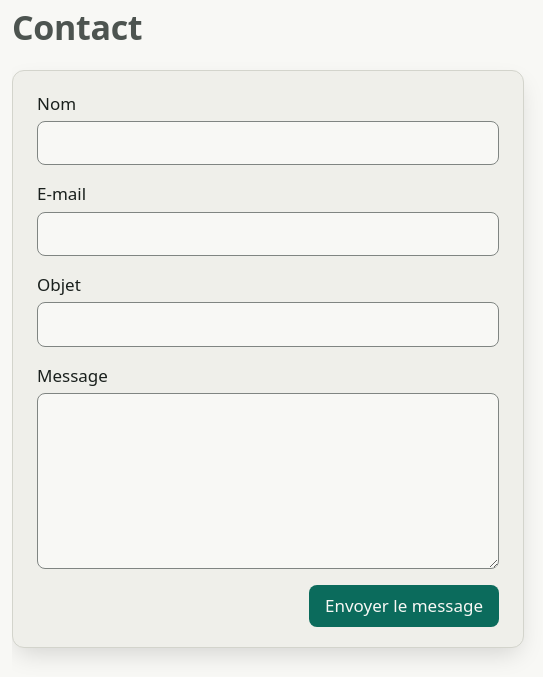
Test: ContactPage › sending a message › says it is sending in French
Type "Grace" into the field labelled "Nom" at (268, 143), box x1=37 y1=121 x2=499 y2=165
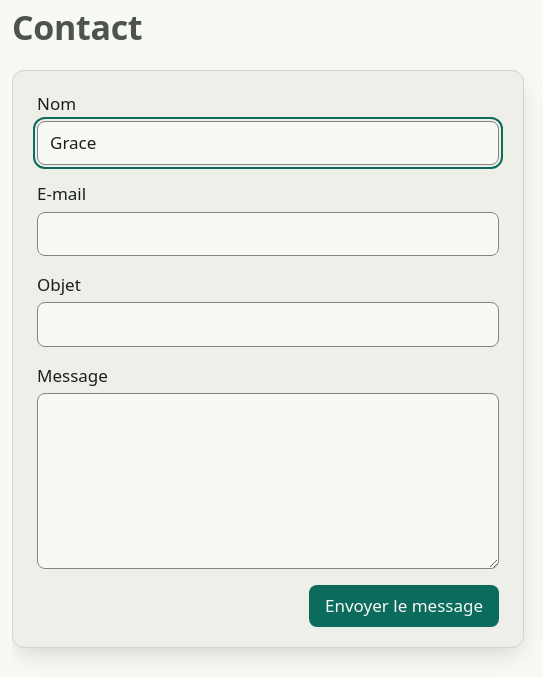
Type "grace@example.com" into the field labelled "E-mail" at (268, 234), box x1=37 y1=212 x2=499 y2=256
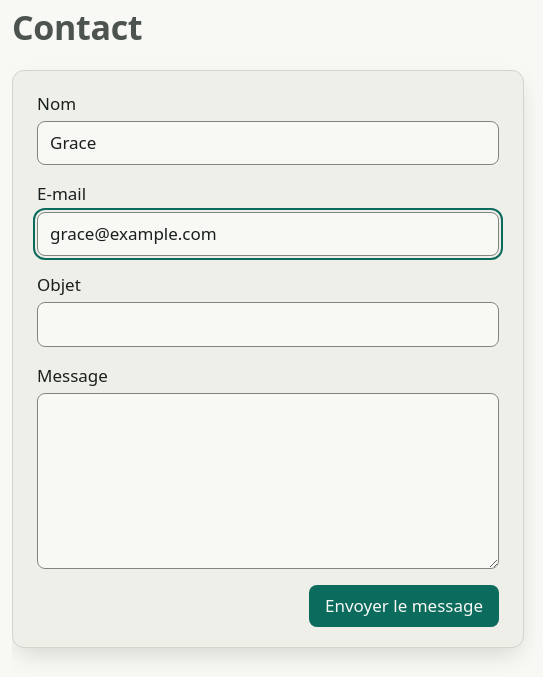
Type "Say hello" into the field labelled "Objet" at (268, 324), box x1=37 y1=302 x2=499 y2=347
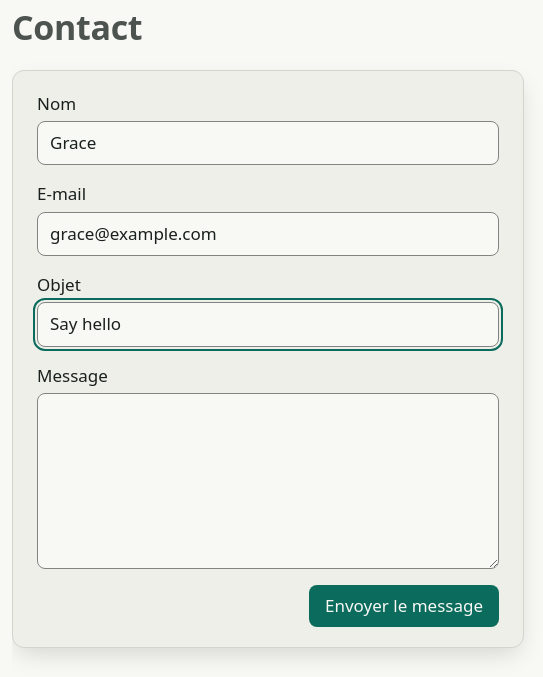
Type "Hello, I would like to talk." into the text box labelled "Message" at (268, 481), box x1=37 y1=393 x2=499 y2=569
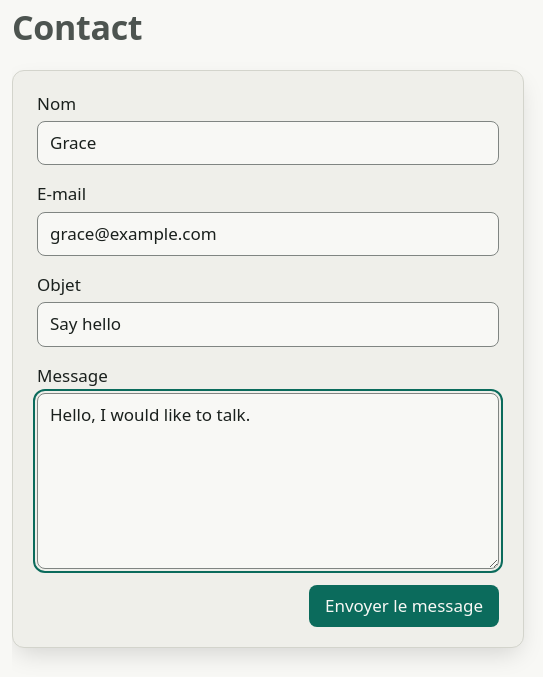
Click the button "Envoyer le message" at (404, 606), box x1=309 y1=585 x2=499 y2=627
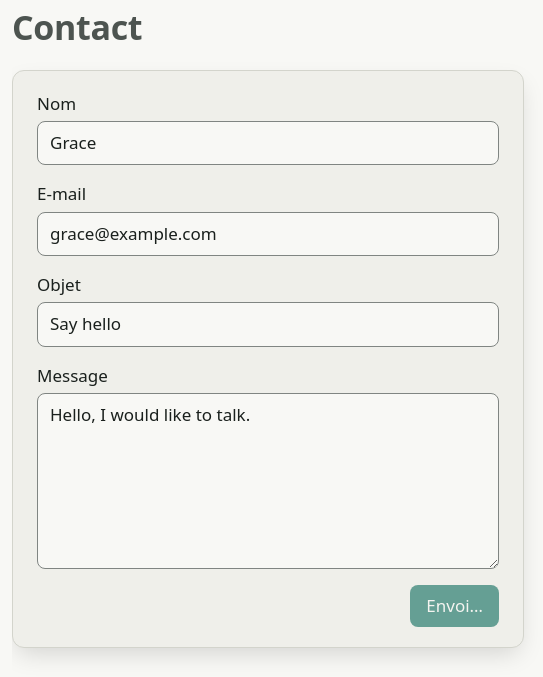
Expected: the button "Envoi…" is disabled, x1=410 y1=585 x2=499 y2=627
